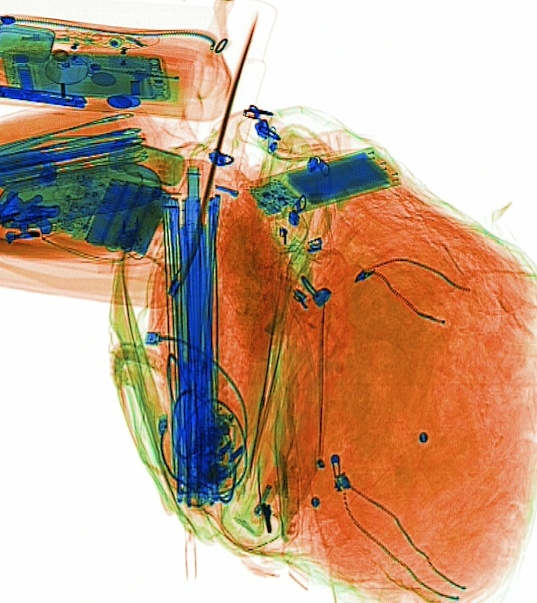powerbank: (56, 169, 172, 260)
